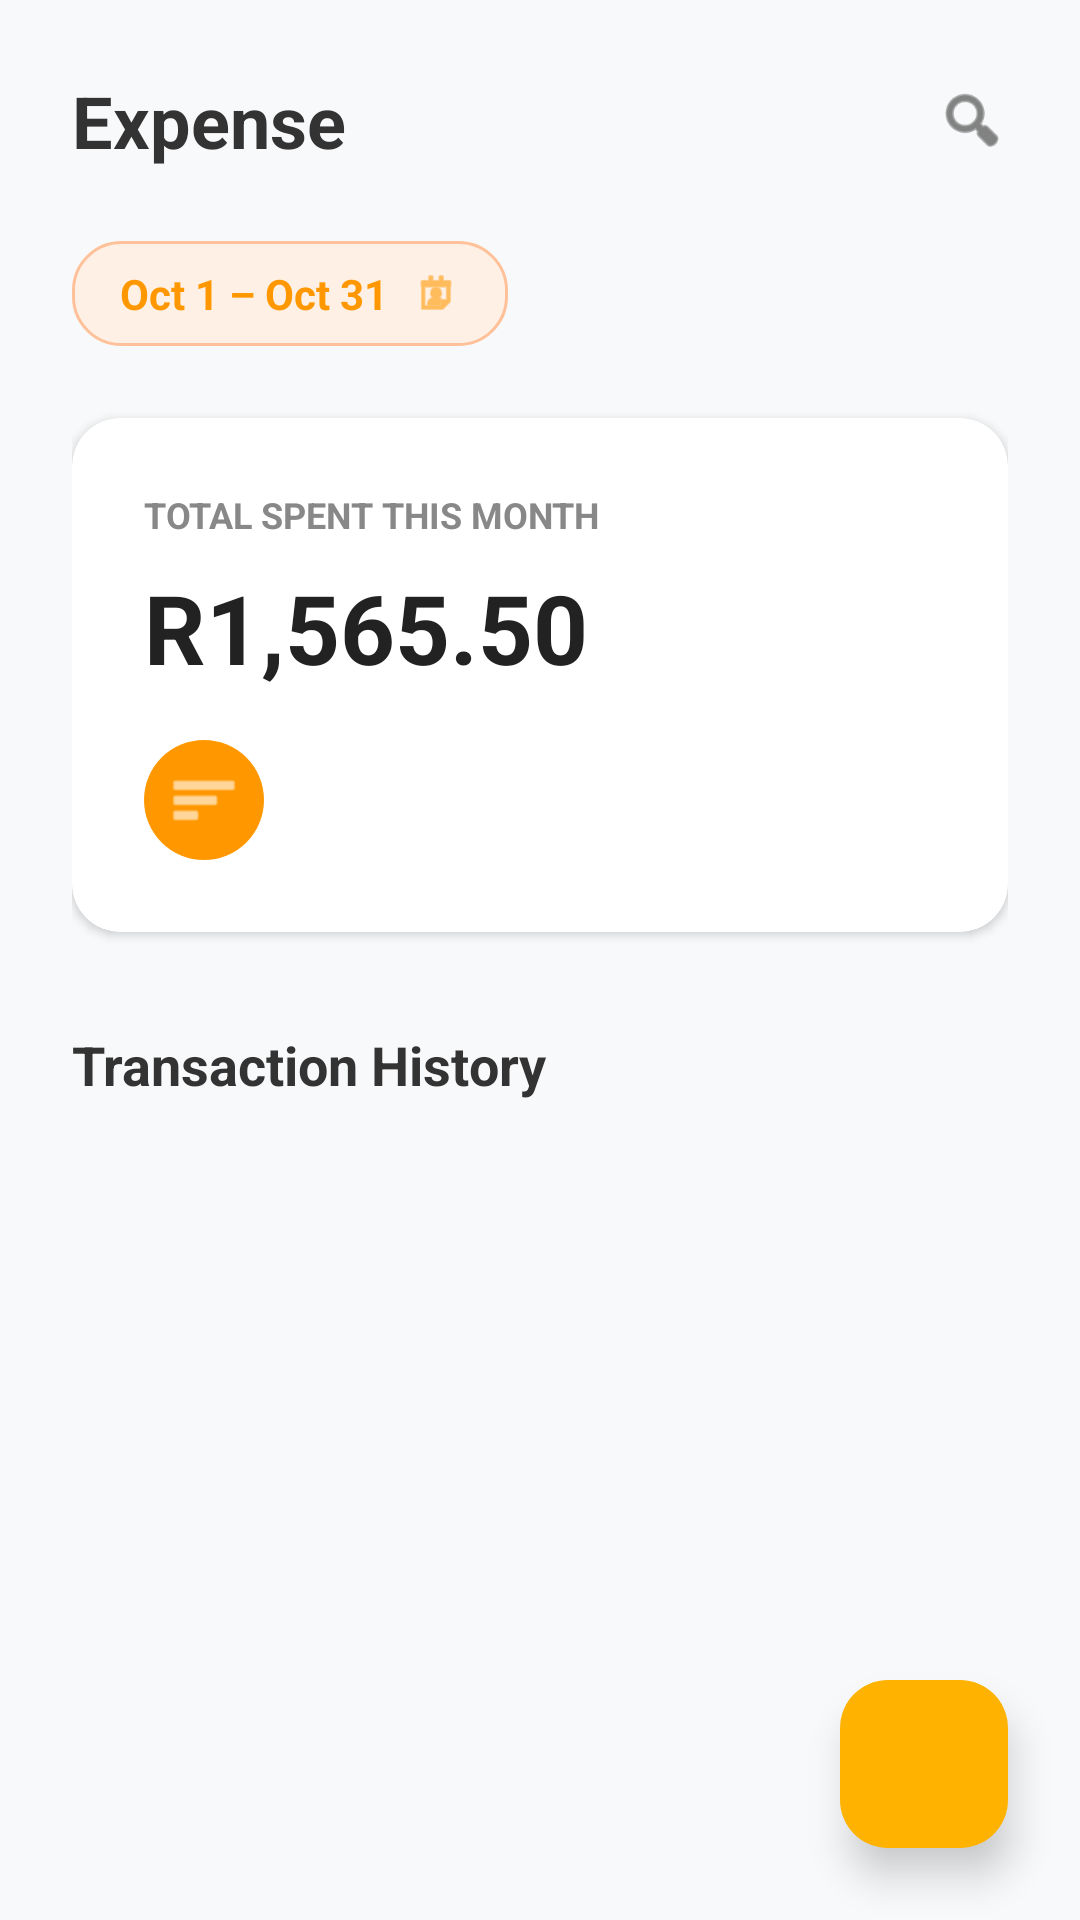

Named icons in this screenshot (1080*1920) and their centers, (x,y):
calendar: (436,292)
search: (972,120)
sort by size: (204,800)
